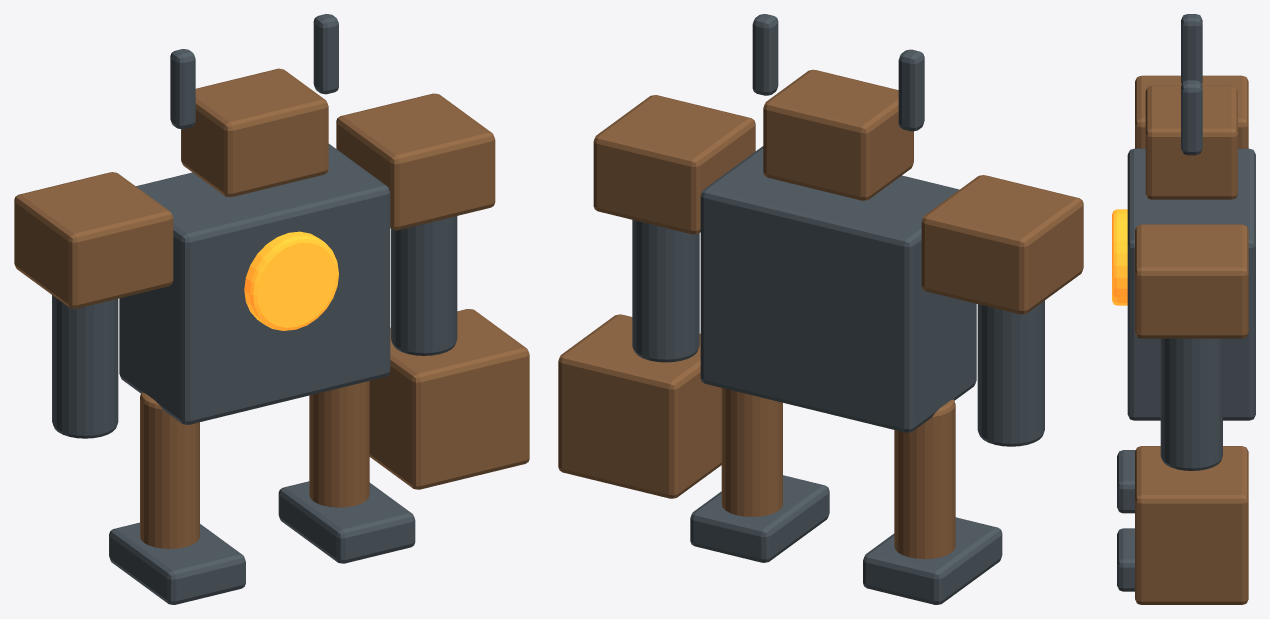
Rendered from execution_machine.glb.
The picture shows the model from 3 angles, left to right: view 1: azimuth 30°, elevation 25°; view 2: azimuth 150°, elevation 25°; view 3: azimuth 270°, elevation 25°; orthographic projection. The views are drawn at different scales.
Visible parts, largest first — view 1: Execution torso, Chain hammer, Shoulder, Shoulder.001, Helmet, Arm piston, Arm piston.001, Leg piston, Core eye, Leg piston.001, Boot.001, Boot (+2 smaller); view 2: Execution torso, Chain hammer, Shoulder, Shoulder.001, Helmet, Arm piston, Arm piston.001, Leg piston, Leg piston.001, Boot, Boot.001, Helmet spike (+1 smaller); view 3: Chain hammer, Shoulder.001, Execution torso, Helmet, Arm piston.001, Shoulder, Helmet spike.001, Core eye, Helmet spike, Boot, Boot.001.
Part boxes in pixels (bbox=[...]): Execution torso: bbox=[119, 144, 390, 424]; Chain hammer: bbox=[369, 309, 529, 489]; Shoulder: bbox=[14, 172, 173, 308]; Shoulder.001: bbox=[336, 93, 495, 230]; Helmet: bbox=[181, 68, 328, 197]; Arm piston: bbox=[52, 295, 118, 438]; Arm piston.001: bbox=[391, 216, 457, 355]; Leg piston: bbox=[140, 392, 199, 548]; Core eye: bbox=[244, 231, 338, 330]; Leg piston.001: bbox=[309, 381, 369, 507]; Boot.001: bbox=[278, 481, 415, 563]; Boot: bbox=[109, 522, 245, 604]; Execution torso: bbox=[700, 146, 976, 432]; Chain hammer: bbox=[558, 314, 721, 498]; Shoulder: bbox=[921, 175, 1083, 314]; Shoulder.001: bbox=[593, 95, 755, 234]; Helmet: bbox=[763, 69, 913, 200]; Arm piston: bbox=[977, 300, 1044, 446]; Arm piston.001: bbox=[632, 220, 699, 362]; Leg piston: bbox=[894, 399, 955, 559]; Leg piston.001: bbox=[721, 388, 782, 516]; Boot: bbox=[863, 517, 1002, 604]; Boot.001: bbox=[690, 475, 829, 562]; Helmet spike: bbox=[898, 49, 924, 131]; Chain hammer: bbox=[1135, 446, 1248, 604]; Shoulder.001: bbox=[1135, 224, 1248, 338]; Execution torso: bbox=[1127, 148, 1255, 420]; Helmet: bbox=[1145, 85, 1237, 199]; Arm piston.001: bbox=[1160, 338, 1222, 470]; Shoulder: bbox=[1135, 75, 1248, 148]; Helmet spike.001: bbox=[1181, 80, 1202, 155]; Core eye: bbox=[1112, 209, 1127, 305]; Helmet spike: bbox=[1181, 14, 1202, 83]; Boot: bbox=[1117, 450, 1135, 513]; Boot.001: bbox=[1117, 528, 1134, 591].
Size of the model in its own units: 3.54 by 3.78 by 1.01.
